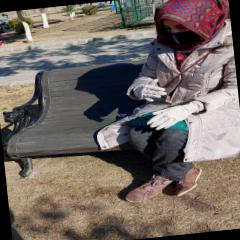gloved: (147, 103, 196, 130), (133, 78, 168, 102)
